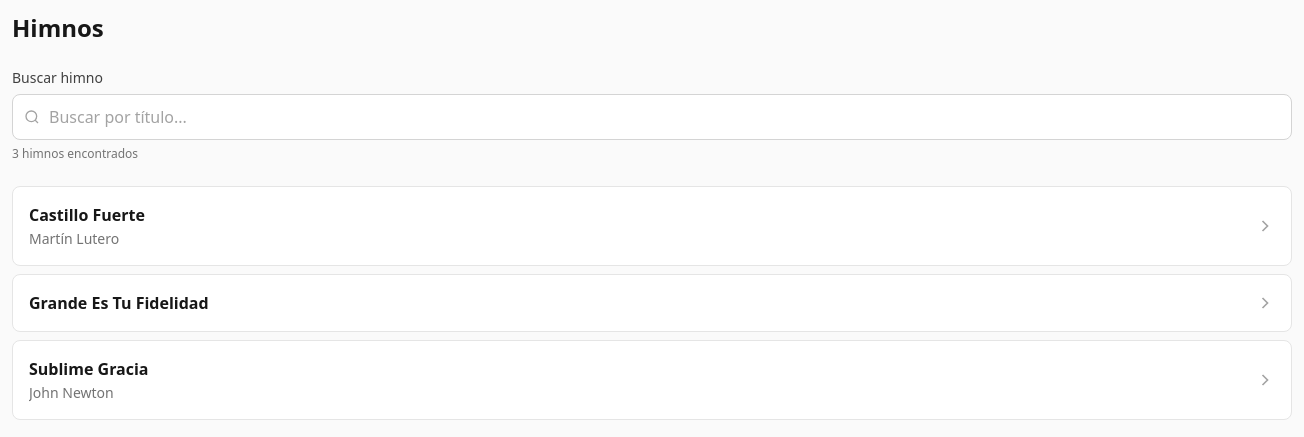
HymnListPage › limpia la búsqueda al hacer clic en el botón limpiar
Check: the heading "Sublime Gracia" is shown, box [29,358,148,380]
Type "gracia" into the search field at [652, 117], box [12,94,1292,140]
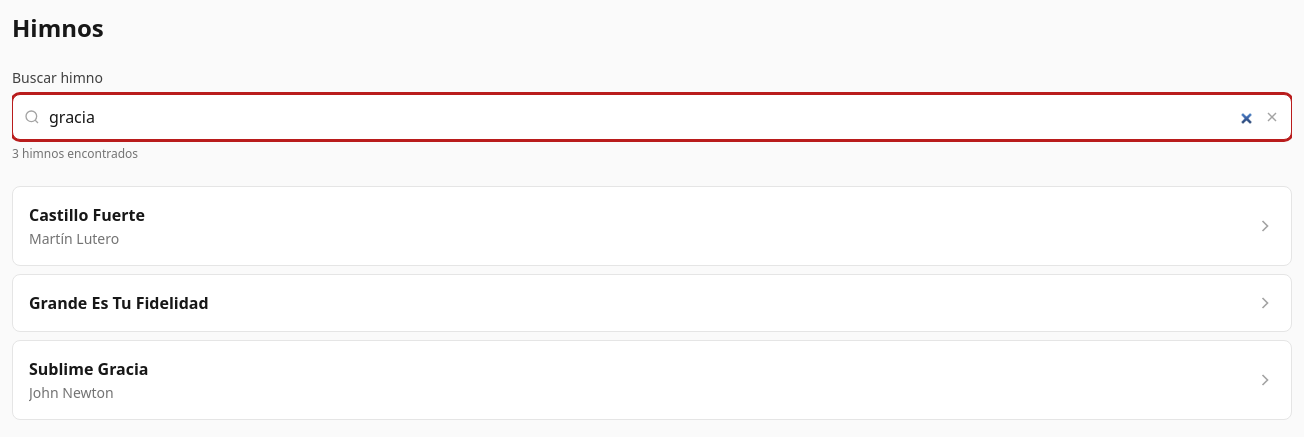
Click the button named "limpiar" at [1278, 117], box [1264,94,1292,140]
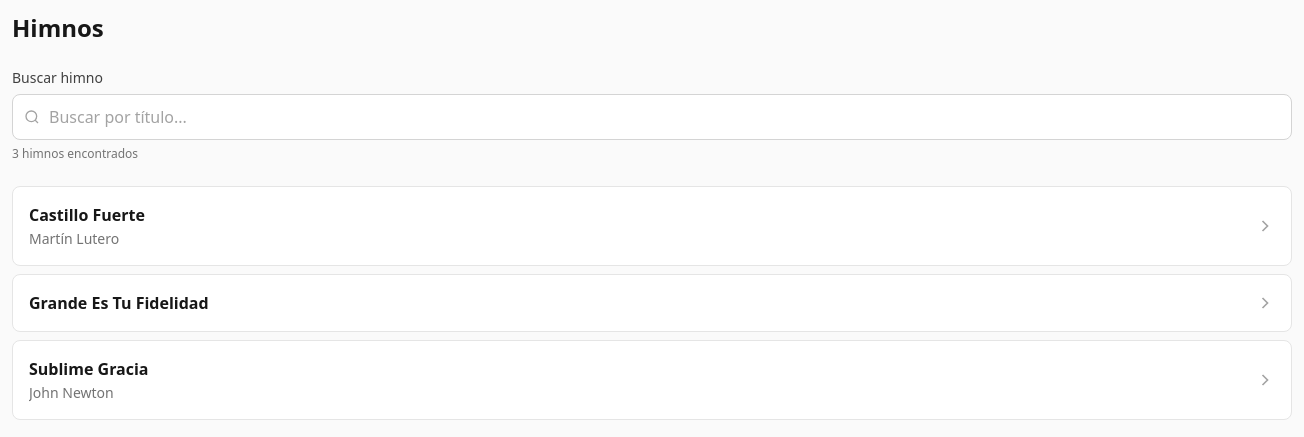
Check: the heading "Sublime Gracia" is shown, box [29,358,148,380]
Check: the search field is empty, box [12,94,1292,140]
